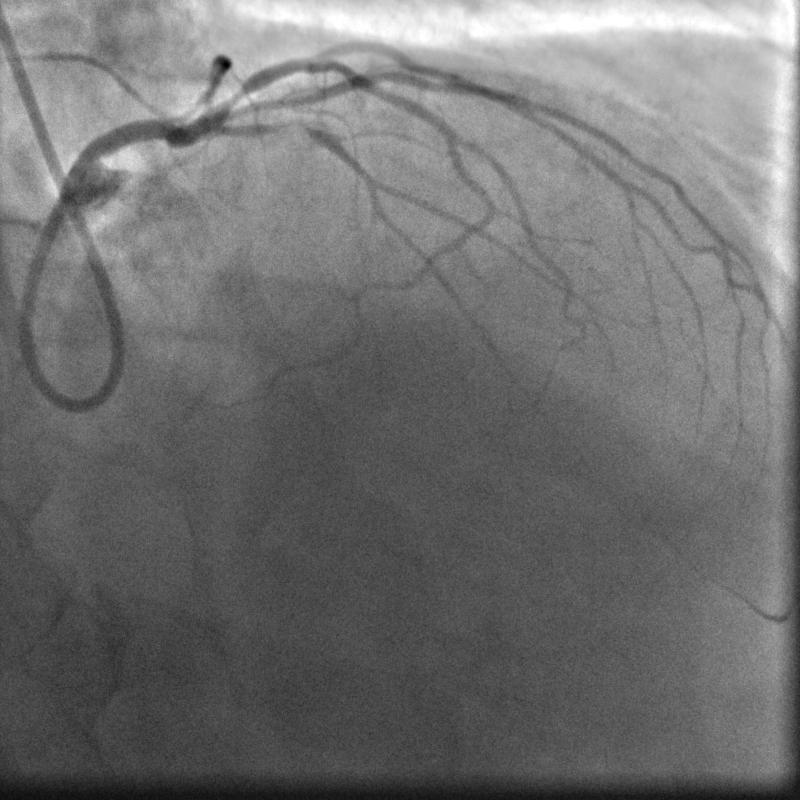Stenosis: (218, 83, 255, 110)
